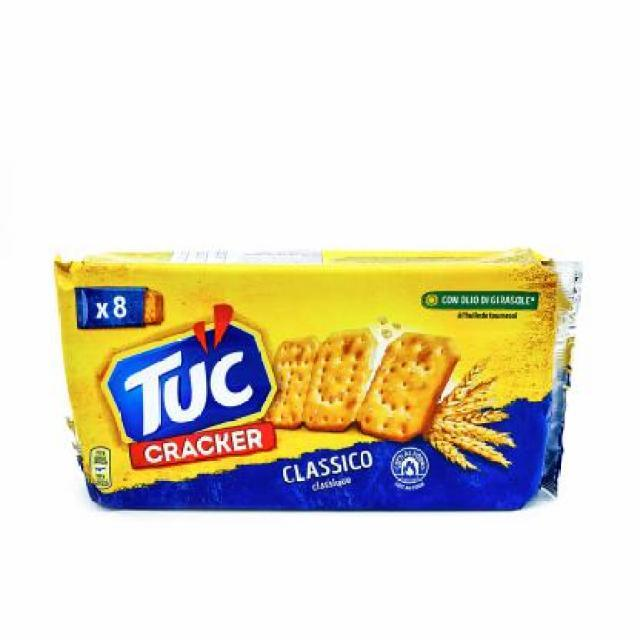Cracker: (37, 244, 585, 516)
